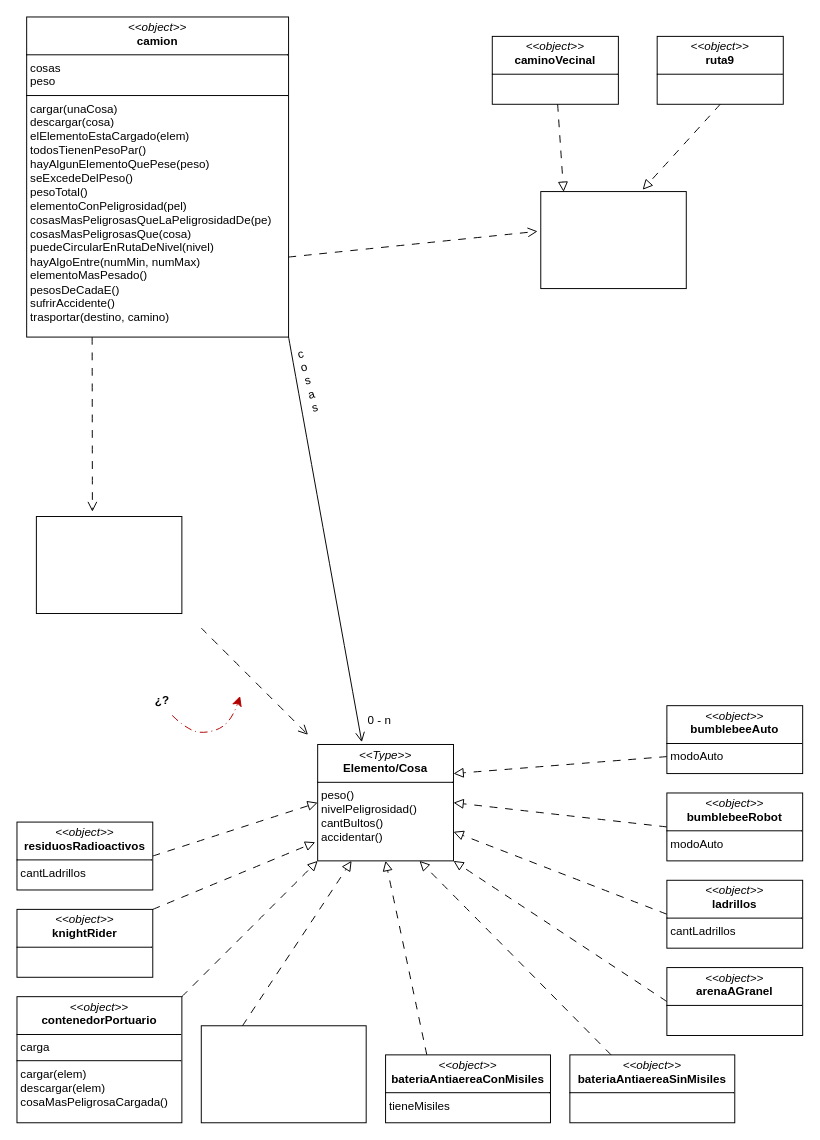
The diagram is 820 pixels wide and 1140 high, and some of its shapes have lost their labels. The centre of each missing label's shape, as x and y in pixels:
"<<object>> almacen inventario agregarAlInventario(elem)" goes at [108,565].
"<<object>> embalajeDeSeguridad elementoQueEnvuelve envolver(elem)" goes at [283,1074].
"<<Type>> Camino pesoMaximo puedeSoportar(elems)" goes at [613,240].
